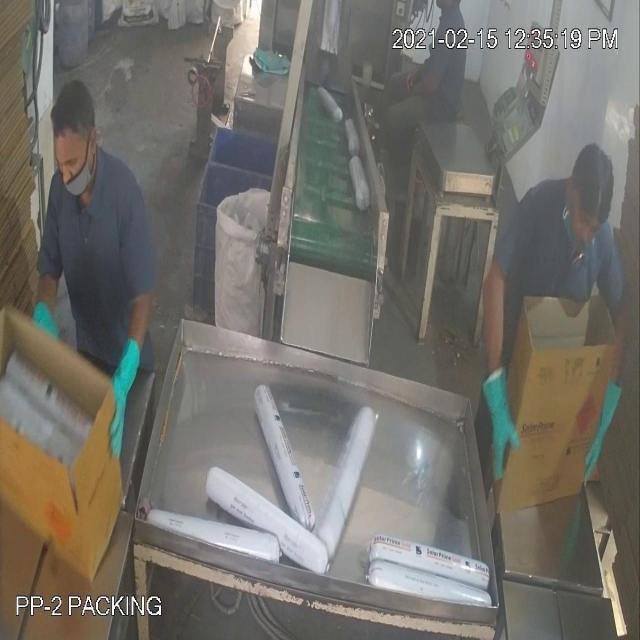Gloves: (45, 134, 601, 426)
